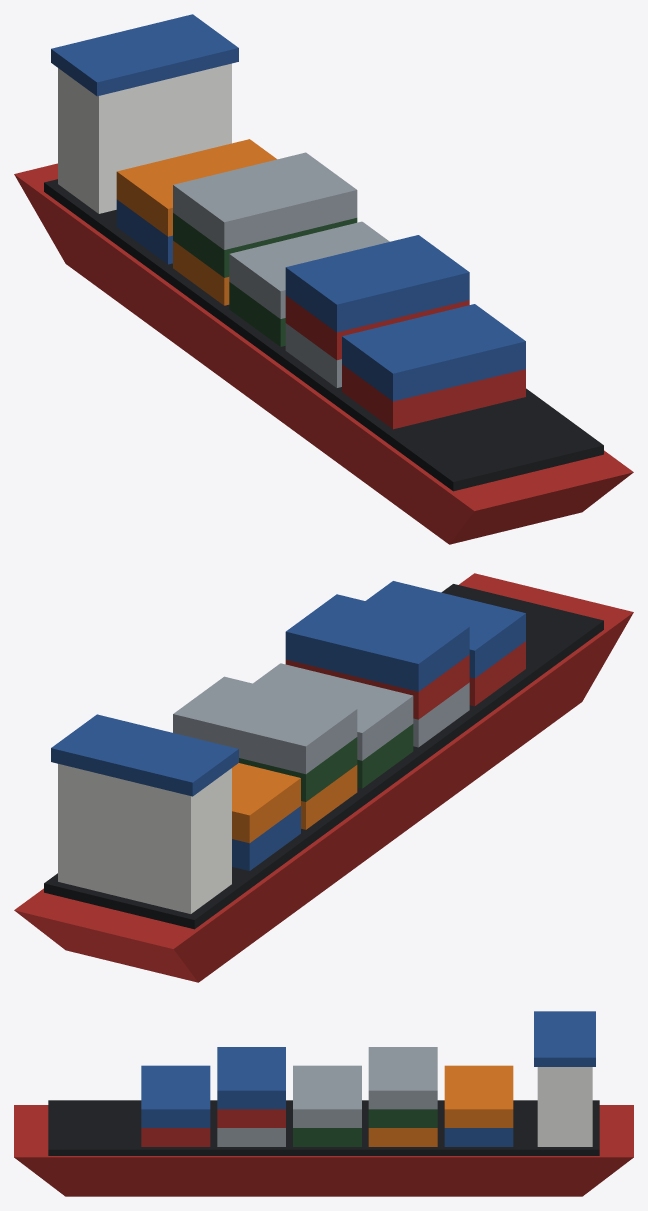
Rendered from vehicle_container_ship.glb.
3 views of the same model, one above another, from view 1: azimuth 30°, elevation 25°; view 2: azimuth 150°, elevation 25°; view 3: azimuth 270°, elevation 25° (orthographic). The views are drawn at different scales.
Visible parts, largest first — view 1: vehicle_container_ship; view 2: vehicle_container_ship; view 3: vehicle_container_ship.
Boxes of the visible parts, <box> form: vehicle_container_ship: <box>14,14,633,544</box>; vehicle_container_ship: <box>14,573,633,982</box>; vehicle_container_ship: <box>14,1011,633,1196</box>.
Bounding box in the file's own units: 0.36 × 0.45 × 1.8.
